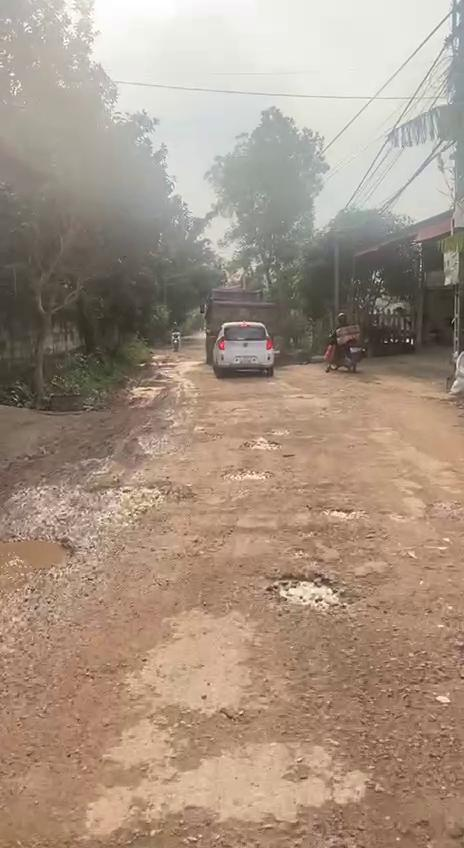pothole: (268, 568, 344, 615), (0, 528, 73, 576), (99, 485, 178, 524), (220, 467, 274, 484), (321, 505, 362, 522), (239, 438, 280, 452)
